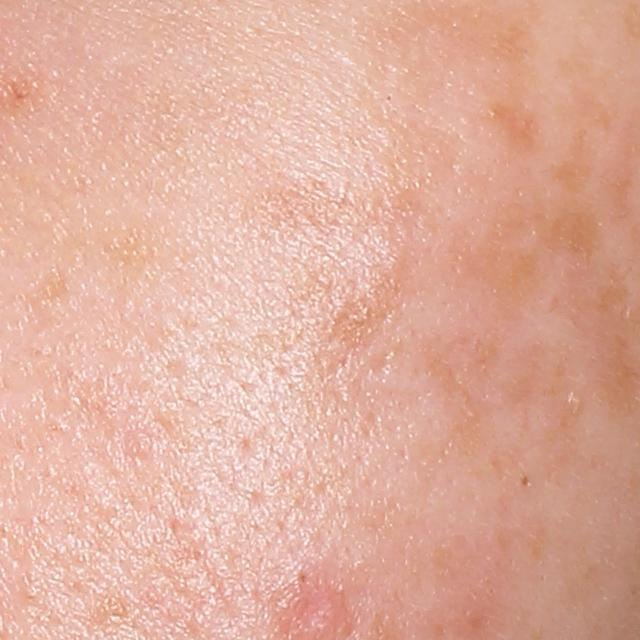melasma: (442, 198, 611, 298), (422, 329, 553, 453), (323, 236, 445, 346), (482, 97, 551, 162), (550, 121, 595, 199), (24, 264, 70, 300)
